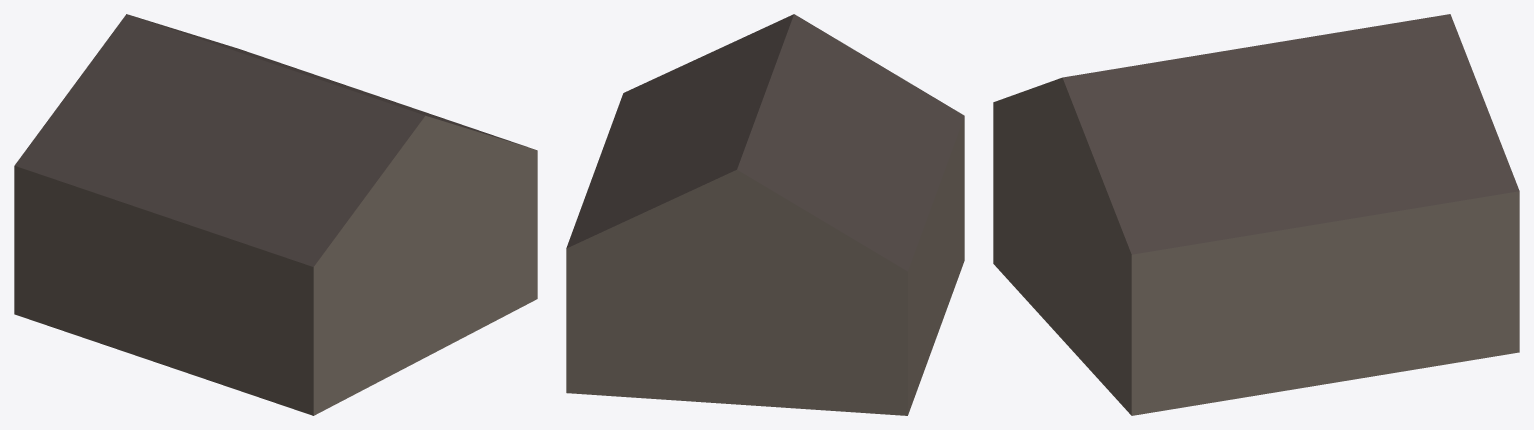
3 views of the same model, side by side, from view 1: azimuth 30°, elevation 25°; view 2: azimuth 150°, elevation 25°; view 3: azimuth 270°, elevation 25° (orthographic). The views are drawn at different scales.
Parts seen in each view (by area): view 1: HP-w1376988781; view 2: HP-w1376988781; view 3: HP-w1376988781.
Boxes of the visible parts, x1=… form: HP-w1376988781: x1=14, y1=14, x2=537, y2=415; HP-w1376988781: x1=566, y1=14, x2=964, y2=415; HP-w1376988781: x1=993, y1=14, x2=1519, y2=415.
Size of the model in its own units: 17.23 by 9.76 by 17.75.
